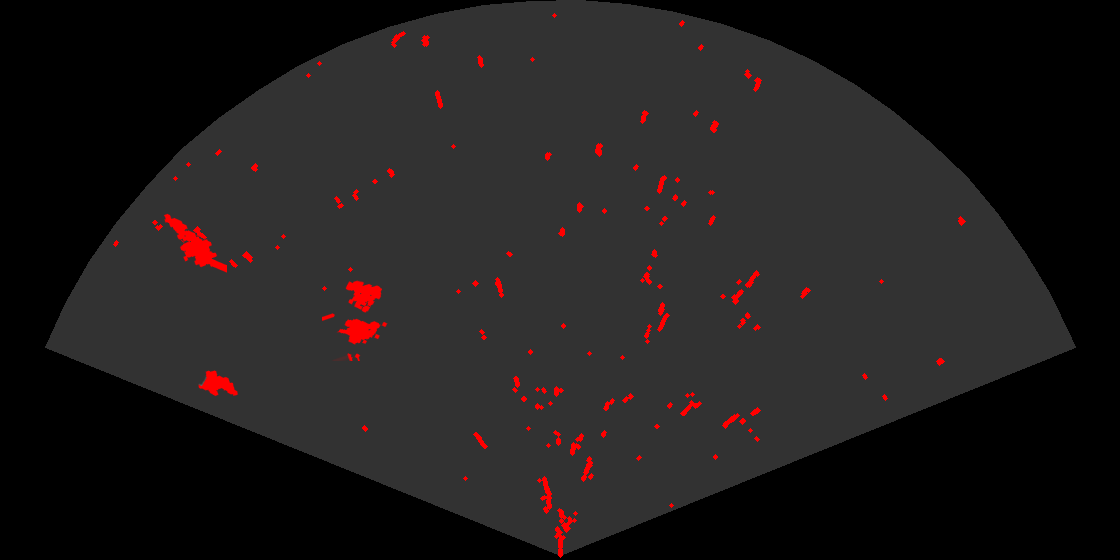AUV: (197, 369, 239, 398)
cage: (322, 279, 389, 361)
frogman: (162, 212, 227, 274)
